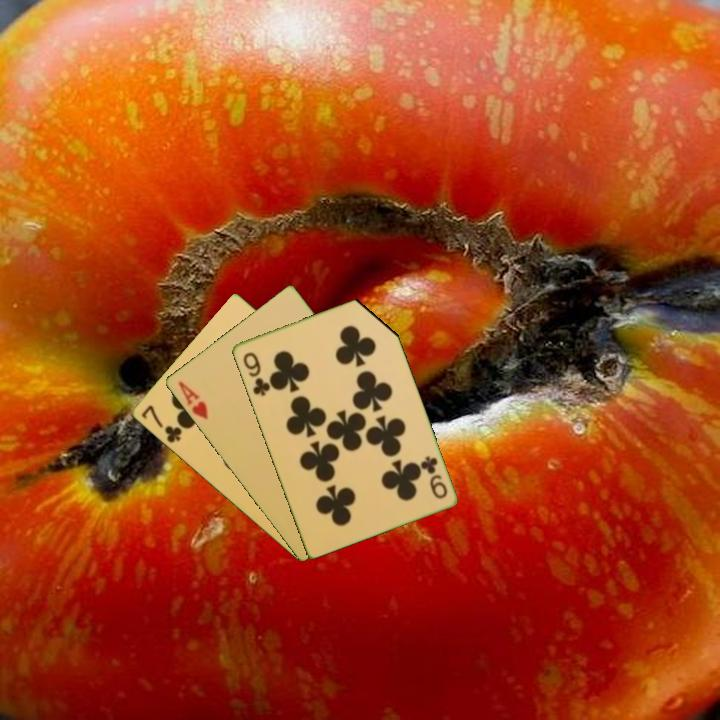7c: (138, 401, 184, 446)
9c: (239, 348, 273, 399), (416, 452, 450, 501)
Ah: (174, 377, 211, 422)
